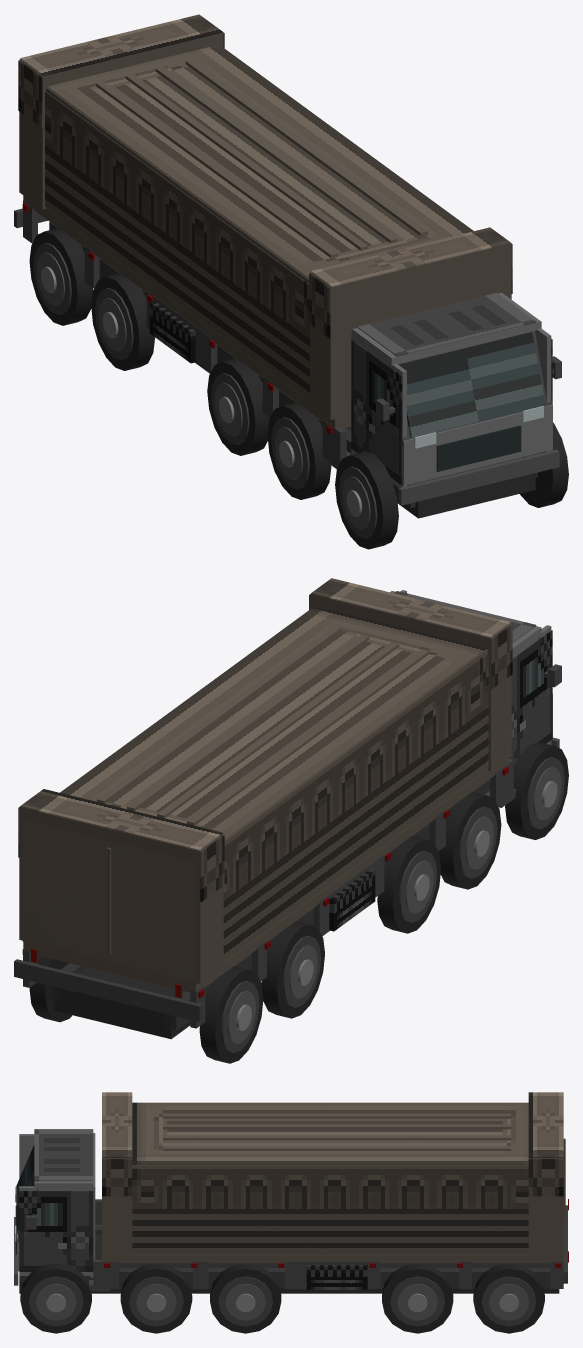
Rendered from CMU3DRMCPropVehicleLongTruckBrown.glb.
3 views of the same model, one above another, from view 1: azimuth 30°, elevation 25°; view 2: azimuth 150°, elevation 25°; view 3: azimuth 270°, elevation 25° (orthographic). The views are drawn at different scales.
Parts seen in each view (by area): view 1: original corrugated roof 1, original corrugated roof 0, original cargo markings -1 1, original cargo markings -1 0, cargo end band 0, sloped windshield, original vented cab roof, original cab side -1, cargo end band 1, original end band roof 1, cab lower front, original end band roof 0 (+34 smaller); view 2: closed corrugated cargo body, original corrugated roof 0, original cargo markings -1 1, cargo end band 1, original corrugated roof 1, original cargo markings -1 0, cargo underframe, original end band roof 1, cargo end band 0, original cab side -1, original end band roof 0, long ladder chassis (+29 smaller); view 3: original cargo markings 1 0, original cargo markings 1 1, original corrugated roof 0, original corrugated roof 1, original cab side 1, cargo underframe, original vented cab roof, closed corrugated cargo body, original end band roof 1, long ladder chassis, cargo end band 1, raised longitudinal roof rib 0 (+35 smaller).
Part boxes in pixels (box(x1,y1,x2,y2)): original corrugated roof 1: box(47, 44, 347, 181); original corrugated roof 0: box(176, 139, 473, 278); original cargo markings -1 1: box(174, 186, 309, 399); original cargo markings -1 0: box(45, 91, 174, 300); cargo end band 0: box(310, 243, 511, 419); sloped windshield: box(398, 332, 545, 437); original vented cab roof: box(357, 292, 536, 356); original cab side -1: box(351, 339, 402, 484); cargo end band 1: box(19, 32, 223, 209); original end band roof 1: box(20, 14, 222, 76); cab lower front: box(402, 404, 552, 485); original end band roof 0: box(311, 227, 510, 286); closed corrugated cargo body: box(22, 649, 487, 983); original corrugated roof 0: box(177, 606, 486, 749); original cargo markings -1 1: box(350, 653, 488, 868); cargo end band 1: box(19, 806, 223, 983); original corrugated roof 1: box(60, 707, 348, 840); original cargo markings -1 0: box(223, 754, 350, 961); cargo underframe: box(23, 759, 507, 992); original end band roof 1: box(20, 789, 222, 850); cargo end band 0: box(310, 594, 511, 770); original cab side -1: box(508, 630, 552, 766); original end band roof 0: box(311, 578, 510, 637); long ladder chassis: box(54, 967, 190, 1039); original cargo markings 1 0: box(132, 1168, 336, 1253); original cargo markings 1 1: box(337, 1168, 528, 1253); original corrugated roof 0: box(132, 1102, 336, 1165); original corrugated roof 1: box(337, 1102, 528, 1165); original cab side 1: box(19, 1191, 93, 1271); cargo underframe: box(102, 1256, 563, 1263); original vented cab roof: box(34, 1130, 93, 1181); closed corrugated cargo body: box(132, 1165, 528, 1255); original end band roof 1: box(528, 1092, 563, 1157); long ladder chassis: box(19, 1234, 559, 1293); cargo end band 1: box(528, 1158, 563, 1256); raised longitudinal roof rib 0: box(163, 1113, 511, 1118).
Size of the model in its own units: 1.21 by 1.39 by 3.98.
34 materials, 12 textured.
